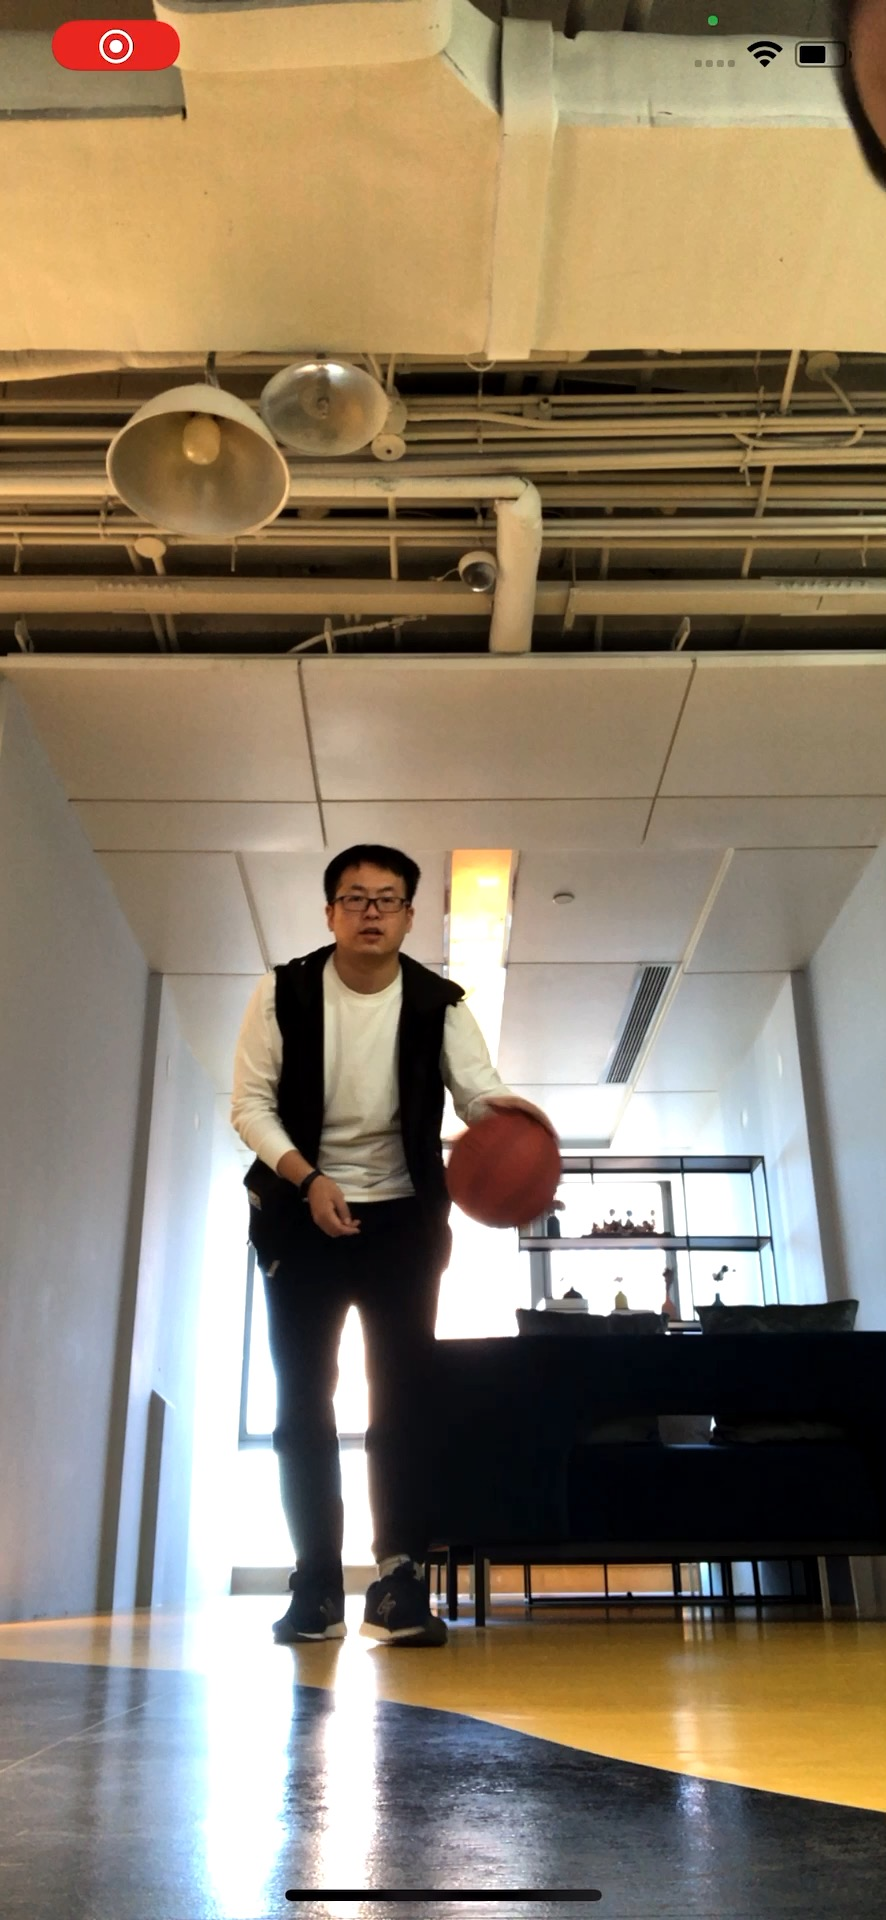ball: (449, 1114, 563, 1229)
